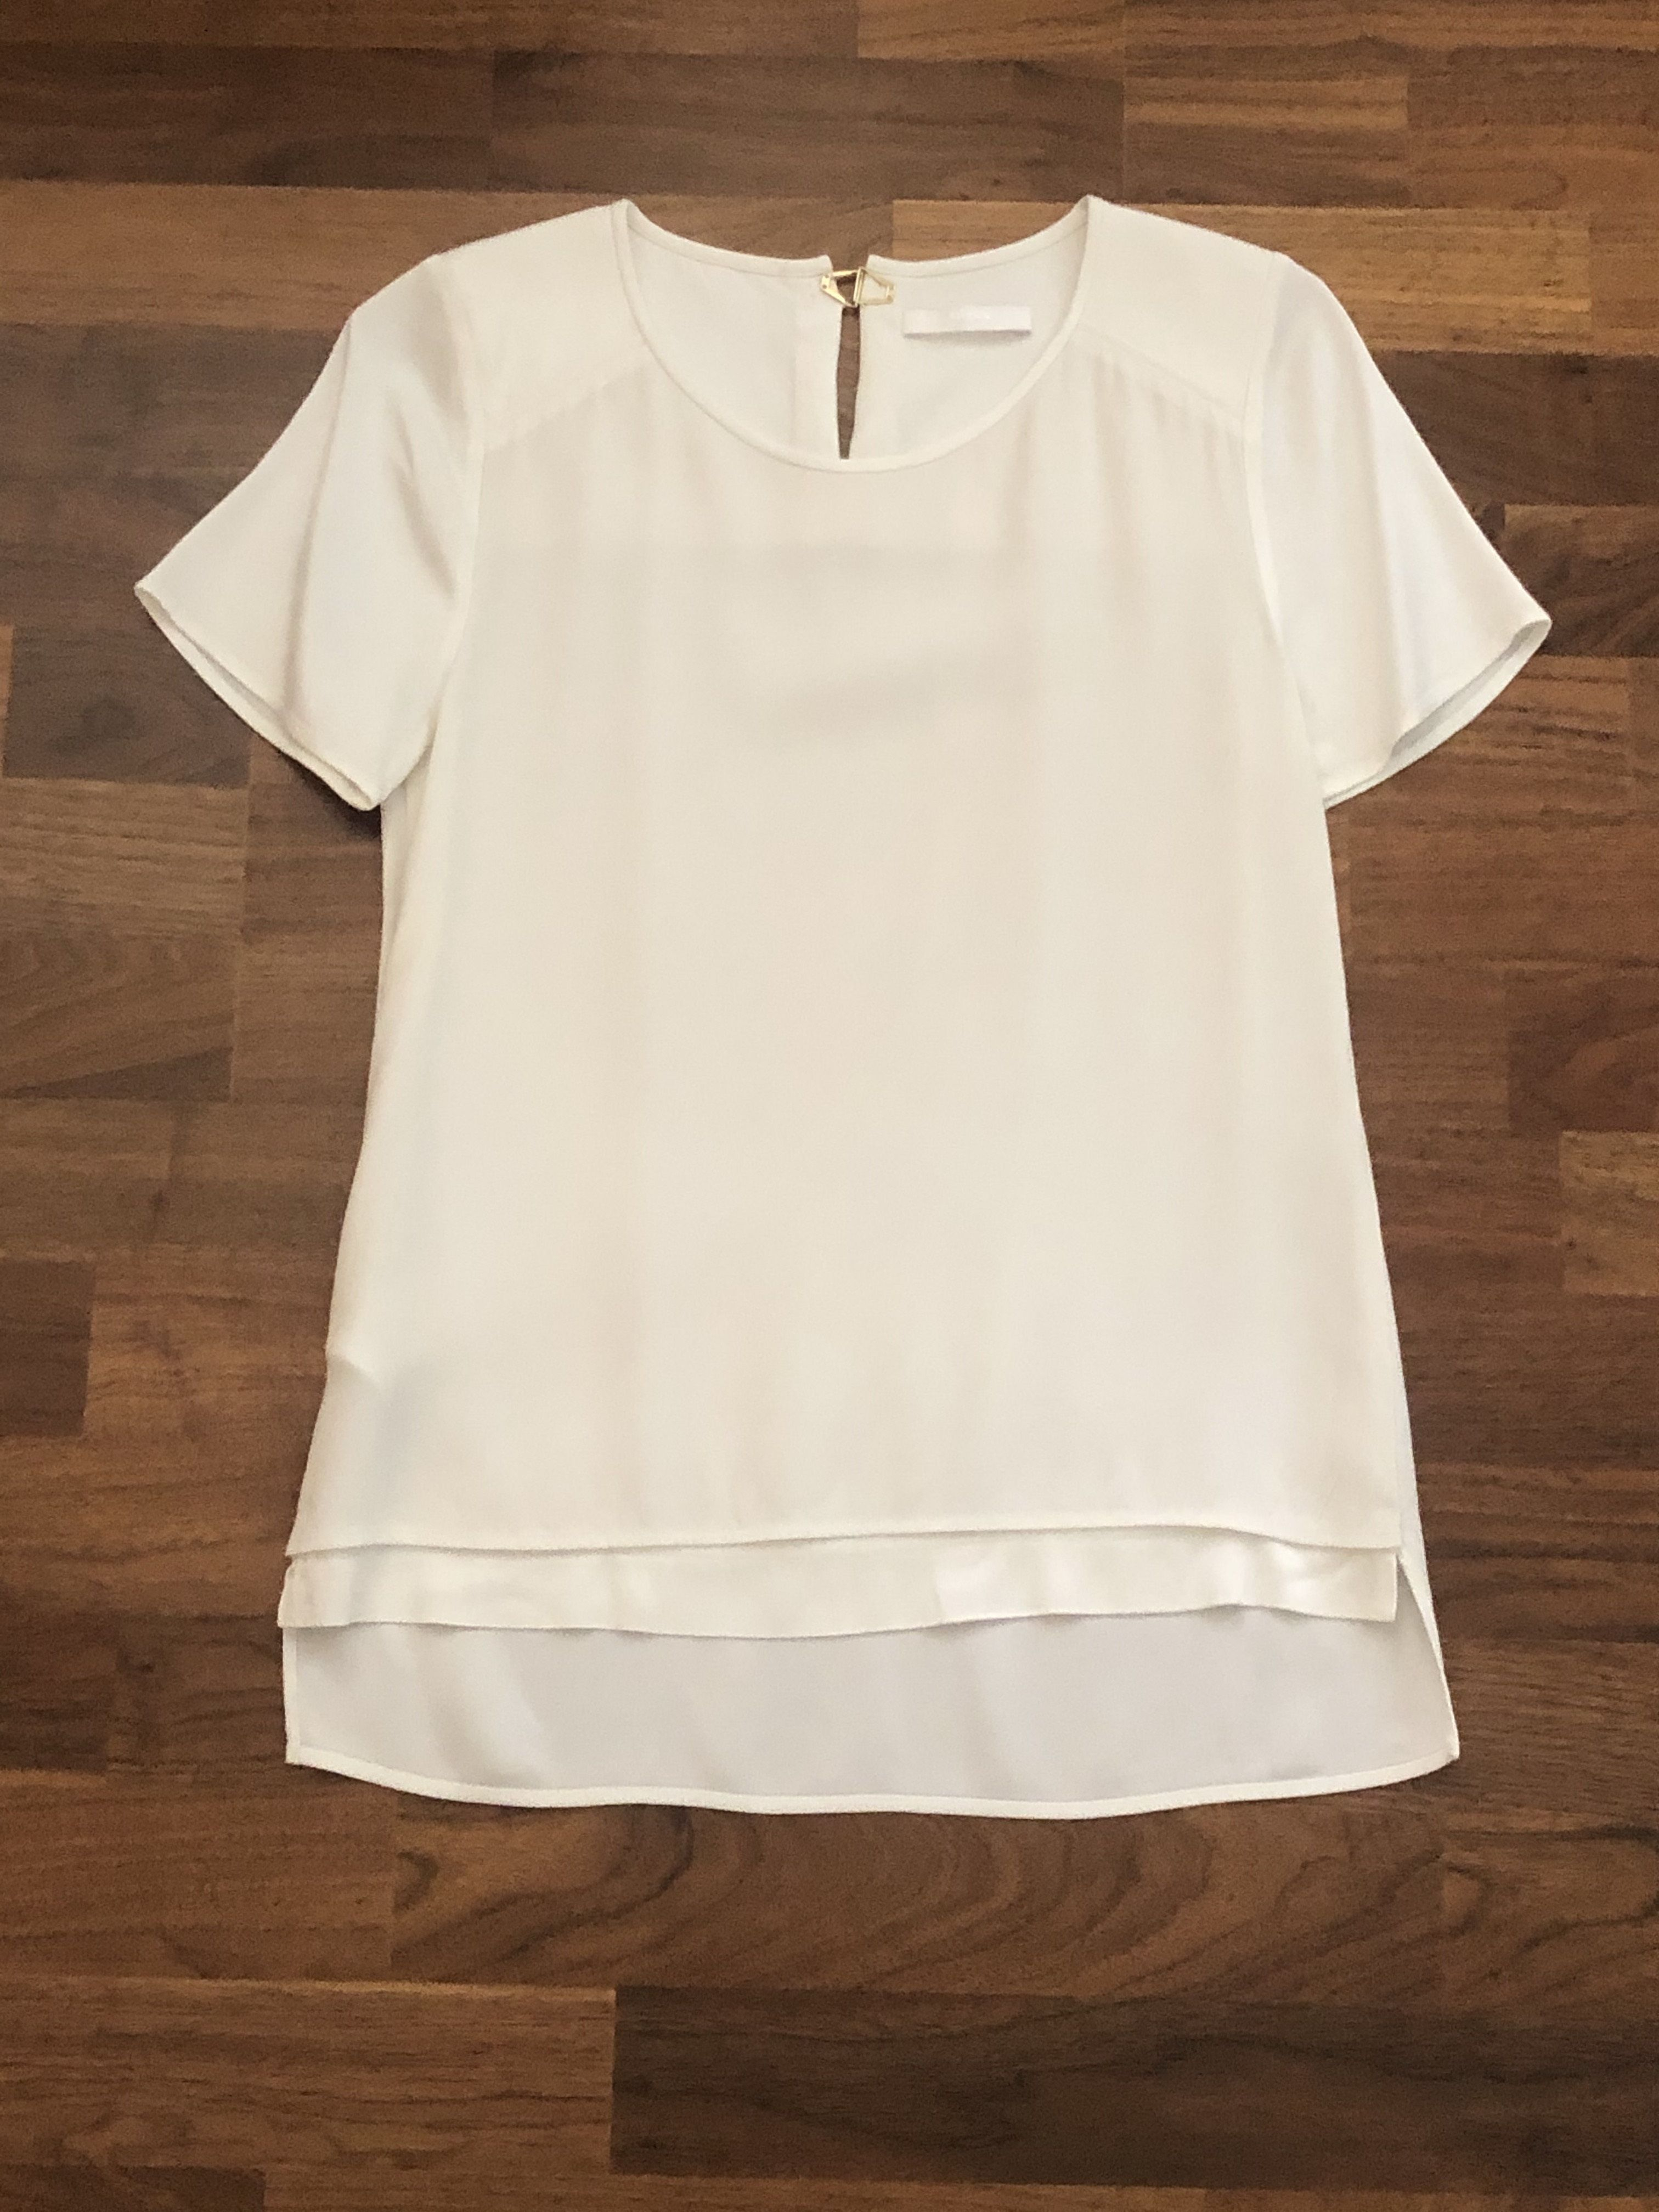clothes: (139, 179, 1561, 1862)
